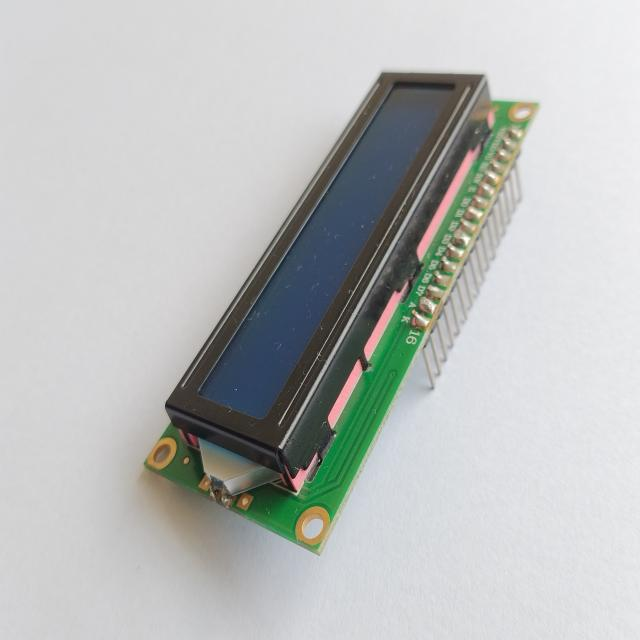lcd: (163, 68, 494, 495)
